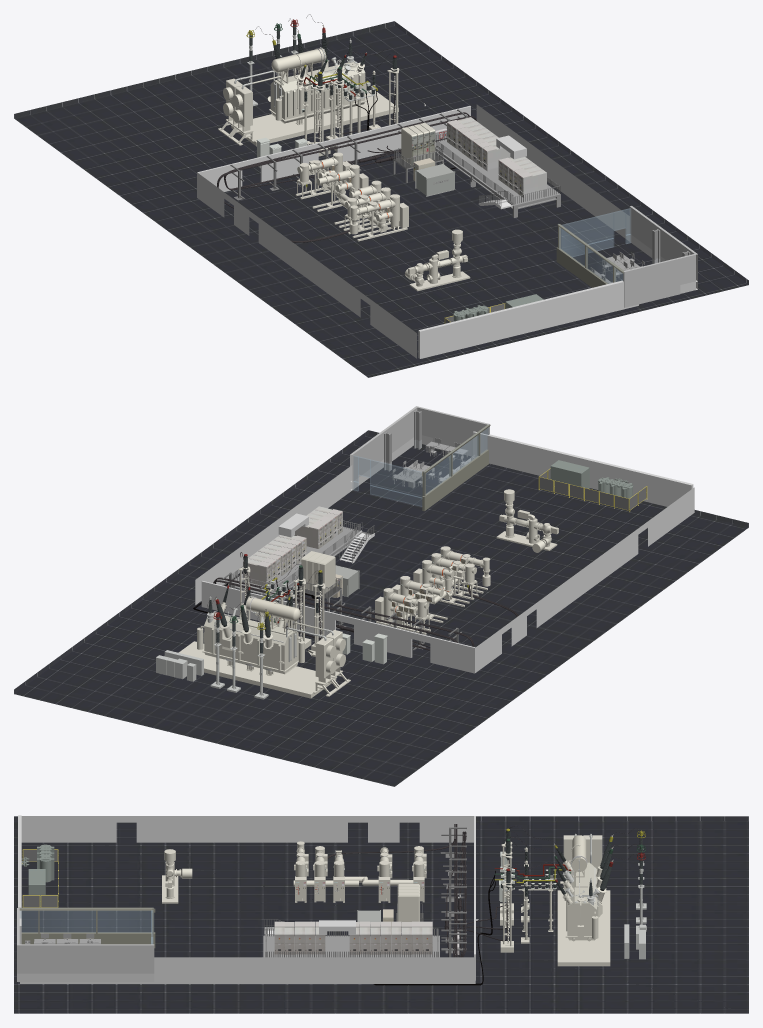
The model's file is Fullscene_0807_ver-transformed.glb.
3 views of the same model, one above another, from view 1: azimuth 30°, elevation 25°; view 2: azimuth 150°, elevation 25°; view 3: azimuth 270°, elevation 25° (orthographic). The views are drawn at different scales.
Parts seen in each view (by area): view 1: ENV_GROUND_Ground, ENV_CTRL-ROOM_pillars, ENV_WALL_Cube, ENV_CTRL-ROOM_walls, 10kV-SWG_SWG@220, 10kV-COMP_无功设备_RPE, 220kV-TR_主变_Cylinder.033, 10kV-SWG_RMU@环网柜X_RMU; view 2: ENV_GROUND_Ground, ENV_CTRL-ROOM_pillars, ENV_WALL_Cube, ENV_CTRL-ROOM_walls, 10kV-COMP_无功设备_RPE, 10kV-SWG_SWG@220, 220kV-TR_主变_Cylinder.033; view 3: ENV_GROUND_Ground, ENV_CTRL-ROOM_pillars, ENV_WALL_Cube, ENV_CTRL-ROOM_walls, 10kV-SWG_SWG@220, 10kV-COMP_无功设备_RPE, 220kV-TR_主变_Cylinder.033.
Part boxes in pixels (box(x1,y1,x2,y2)): ENV_GROUND_Ground: box(14, 21, 748, 377); ENV_CTRL-ROOM_pillars: box(217, 14, 697, 358); ENV_WALL_Cube: box(197, 104, 696, 358); ENV_CTRL-ROOM_walls: box(556, 208, 630, 287); 10kV-SWG_SWG@220: box(447, 117, 546, 197); 10kV-COMP_无功设备_RPE: box(415, 163, 543, 323); 220kV-TR_主变_Cylinder.033: box(271, 47, 326, 83); 10kV-SWG_RMU@环网柜X_RMU: box(412, 131, 435, 164); ENV_GROUND_Ground: box(14, 430, 748, 786); ENV_CTRL-ROOM_pillars: box(156, 406, 693, 699); ENV_WALL_Cube: box(195, 455, 694, 673); ENV_CTRL-ROOM_walls: box(353, 424, 490, 511); 10kV-COMP_无功设备_RPE: box(335, 460, 647, 597); 10kV-SWG_SWG@220: box(243, 506, 342, 585); 220kV-TR_主变_Cylinder.033: box(245, 596, 300, 632); ENV_GROUND_Ground: box(14, 816, 748, 1013); ENV_CTRL-ROOM_pillars: box(17, 815, 646, 985); ENV_WALL_Cube: box(20, 816, 595, 983); ENV_CTRL-ROOM_walls: box(18, 907, 155, 948); 10kV-SWG_SWG@220: box(274, 921, 432, 954); 10kV-COMP_无功设备_RPE: box(21, 844, 380, 928); 220kV-TR_主变_Cylinder.033: box(571, 835, 587, 877).
Size of the model in its own units: 35.68 by 7.89 by 57.54.
26 materials, 26 textured.
